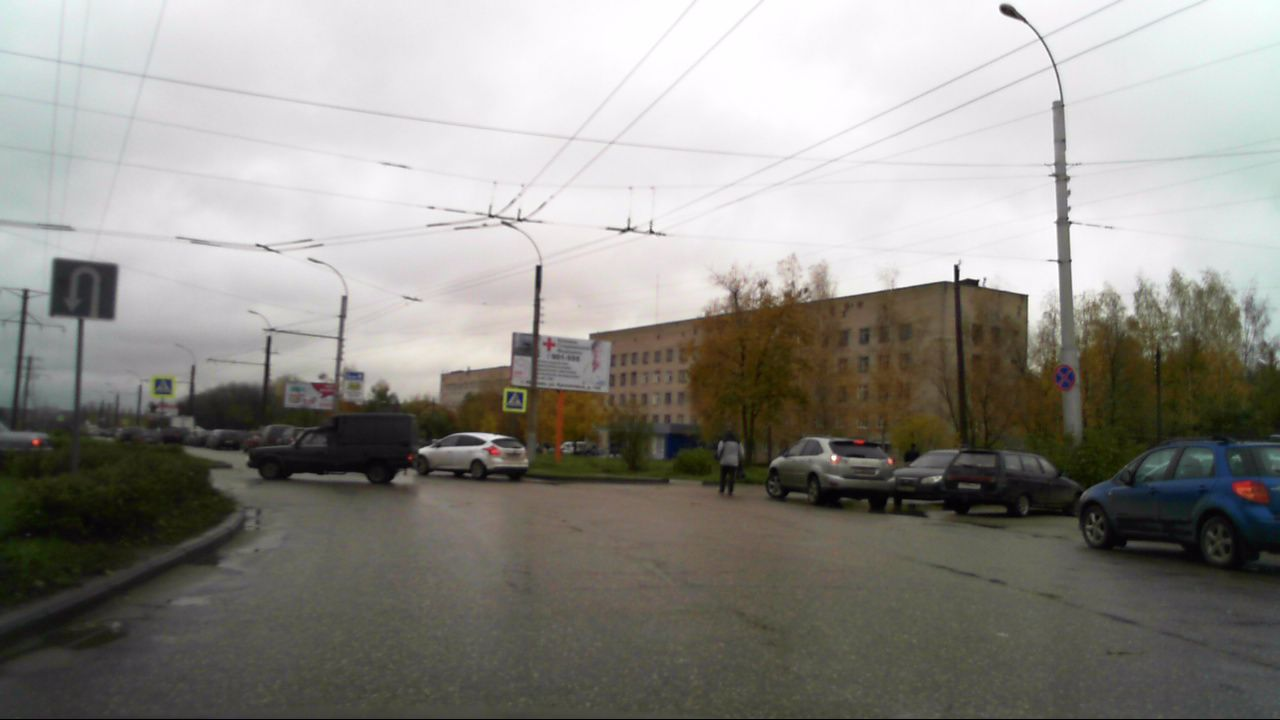No Parking: (1052, 362, 1072, 392)
U-turn: (53, 259, 115, 318)
